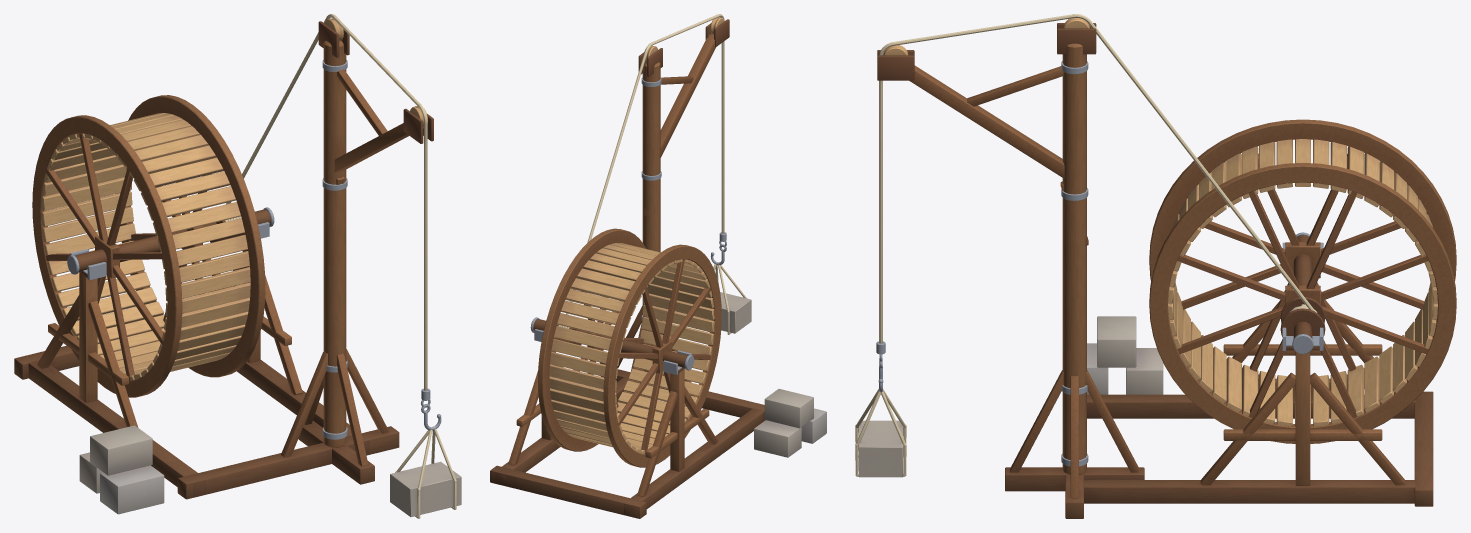
File: treadwheel-crane.glb
The picture shows the model from 3 angles, left to right: view 1: azimuth 30°, elevation 25°; view 2: azimuth 150°, elevation 25°; view 3: azimuth 270°, elevation 25°; orthographic projection. The views are drawn at different scales.
Visible parts, largest first — view 1: treadwheel-crane_walkwheel, treadwheel-crane_body, treadwheel-crane_ironwork; view 2: treadwheel-crane_walkwheel, treadwheel-crane_body, treadwheel-crane_ironwork; view 3: treadwheel-crane_walkwheel, treadwheel-crane_body, treadwheel-crane_ironwork.
Part boxes in pixels (<box>): treadwheel-crane_walkwheel: <box>32,95,274,397</box>; treadwheel-crane_body: <box>14,14,461,518</box>; treadwheel-crane_ironwork: <box>70,59,347,439</box>; treadwheel-crane_walkwheel: <box>530,228,721,467</box>; treadwheel-crane_body: <box>490,14,826,518</box>; treadwheel-crane_ironwork: <box>534,77,691,374</box>; treadwheel-crane_walkwheel: <box>1149,119,1456,443</box>; treadwheel-crane_body: <box>855,14,1433,518</box>; treadwheel-crane_ironwork: <box>1061,61,1323,466</box>.
Bounding box in the file's own units: 3.71 × 5.61 × 6.46.
Materials: 3 (2 with a texture image).
